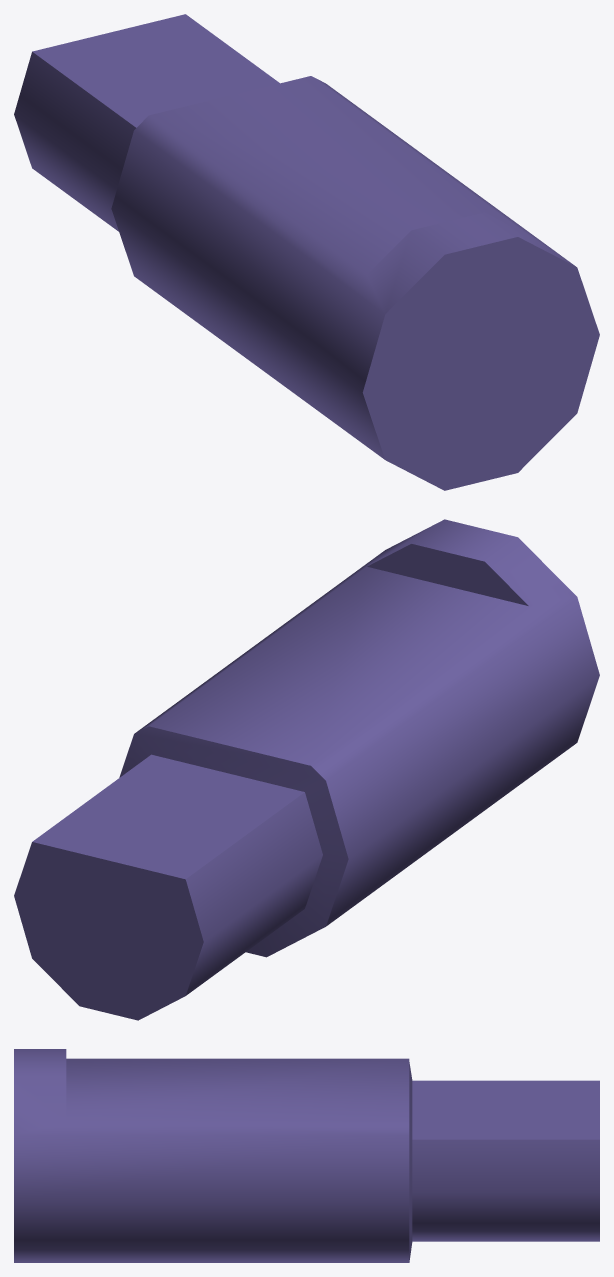
3 renders of one model, top to bottom at view 1: azimuth 30°, elevation 25°; view 2: azimuth 150°, elevation 25°; view 3: azimuth 270°, elevation 25°, orthographic. The views are drawn at different scales.
Parts seen in each view (by area): view 1: Joint_0_Object_0; view 2: Joint_0_Object_0; view 3: Joint_0_Object_0.
Boxes of the visible parts, <box> form: Joint_0_Object_0: <box>14,14,599,490</box>; Joint_0_Object_0: <box>14,519,599,1020</box>; Joint_0_Object_0: <box>14,1049,599,1262</box>.
Size of the model in its own units: 27.36 by 26.02 by 74.38.
